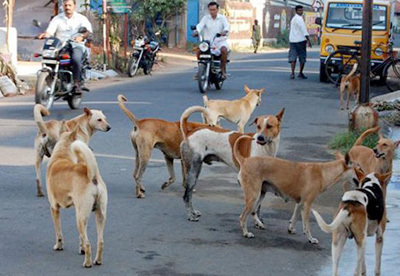Dog: (231, 139, 356, 241), (30, 130, 118, 268)
